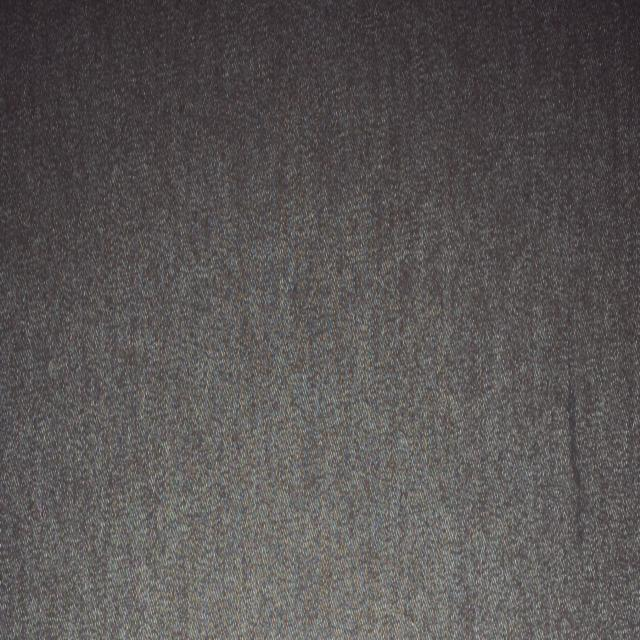Stain: (565, 368, 589, 545)
